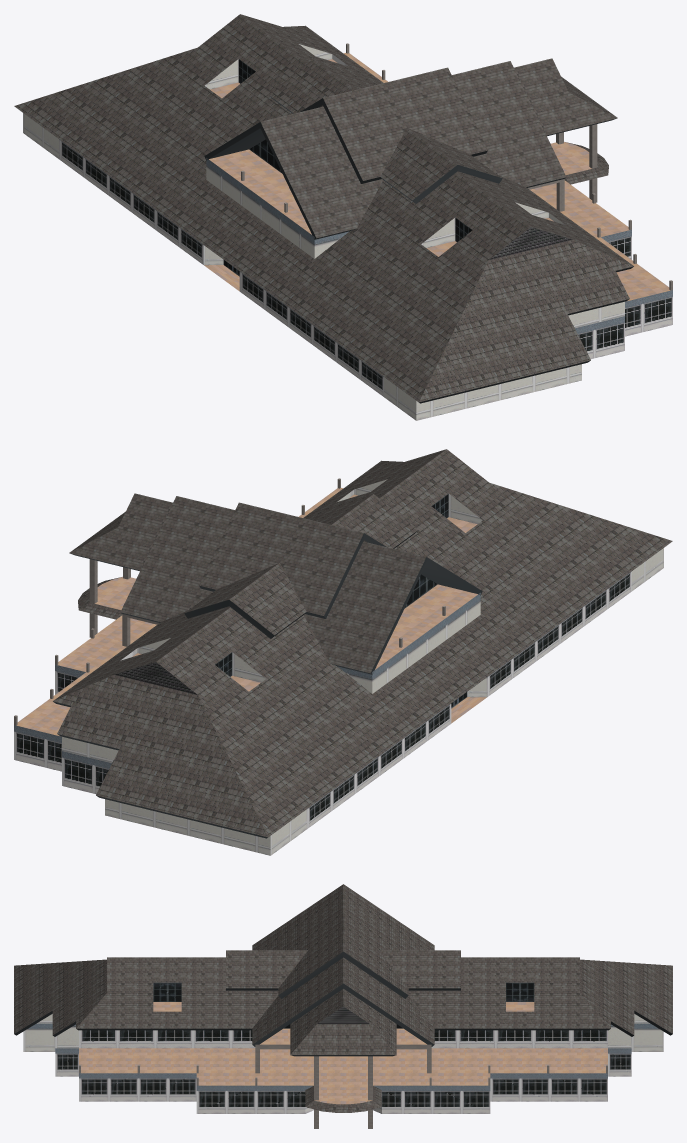
File: vegasglfhse1.obj
The picture shows the model from 3 angles, top to bottom: view 1: azimuth 30°, elevation 25°; view 2: azimuth 150°, elevation 25°; view 3: azimuth 270°, elevation 25°; orthographic projection. The views are drawn at different scales.
Visible parts, largest first — view 1: vegasglfhse1; view 2: vegasglfhse1; view 3: vegasglfhse1.
Boxes of the visible parts, x1=… form: vegasglfhse1: x1=14, y1=14, x2=672, y2=420; vegasglfhse1: x1=14, y1=449, x2=672, y2=855; vegasglfhse1: x1=14, y1=884, x2=672, y2=1128.
Bounding box in the file's own units: 45.96 × 17.63 × 84.1.
Materials: 9 (9 with a texture image).
